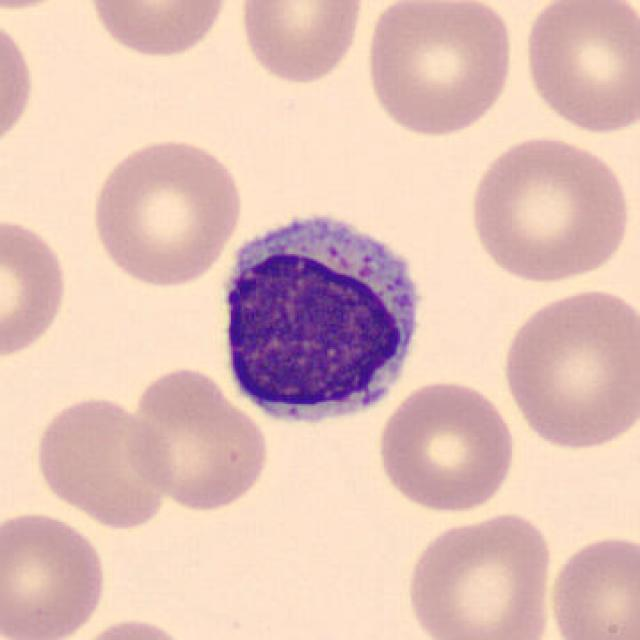Lymphocyte: (210, 198, 434, 436)
RBC: (462, 132, 635, 286), (85, 132, 247, 289), (496, 284, 638, 453), (123, 361, 272, 513), (360, 0, 517, 139), (402, 508, 558, 640), (373, 375, 519, 515), (30, 391, 176, 531), (519, 0, 638, 138), (0, 506, 110, 640), (235, 0, 368, 88), (0, 212, 73, 363), (544, 530, 638, 640), (82, 0, 233, 62), (0, 6, 37, 160), (66, 615, 197, 640)
